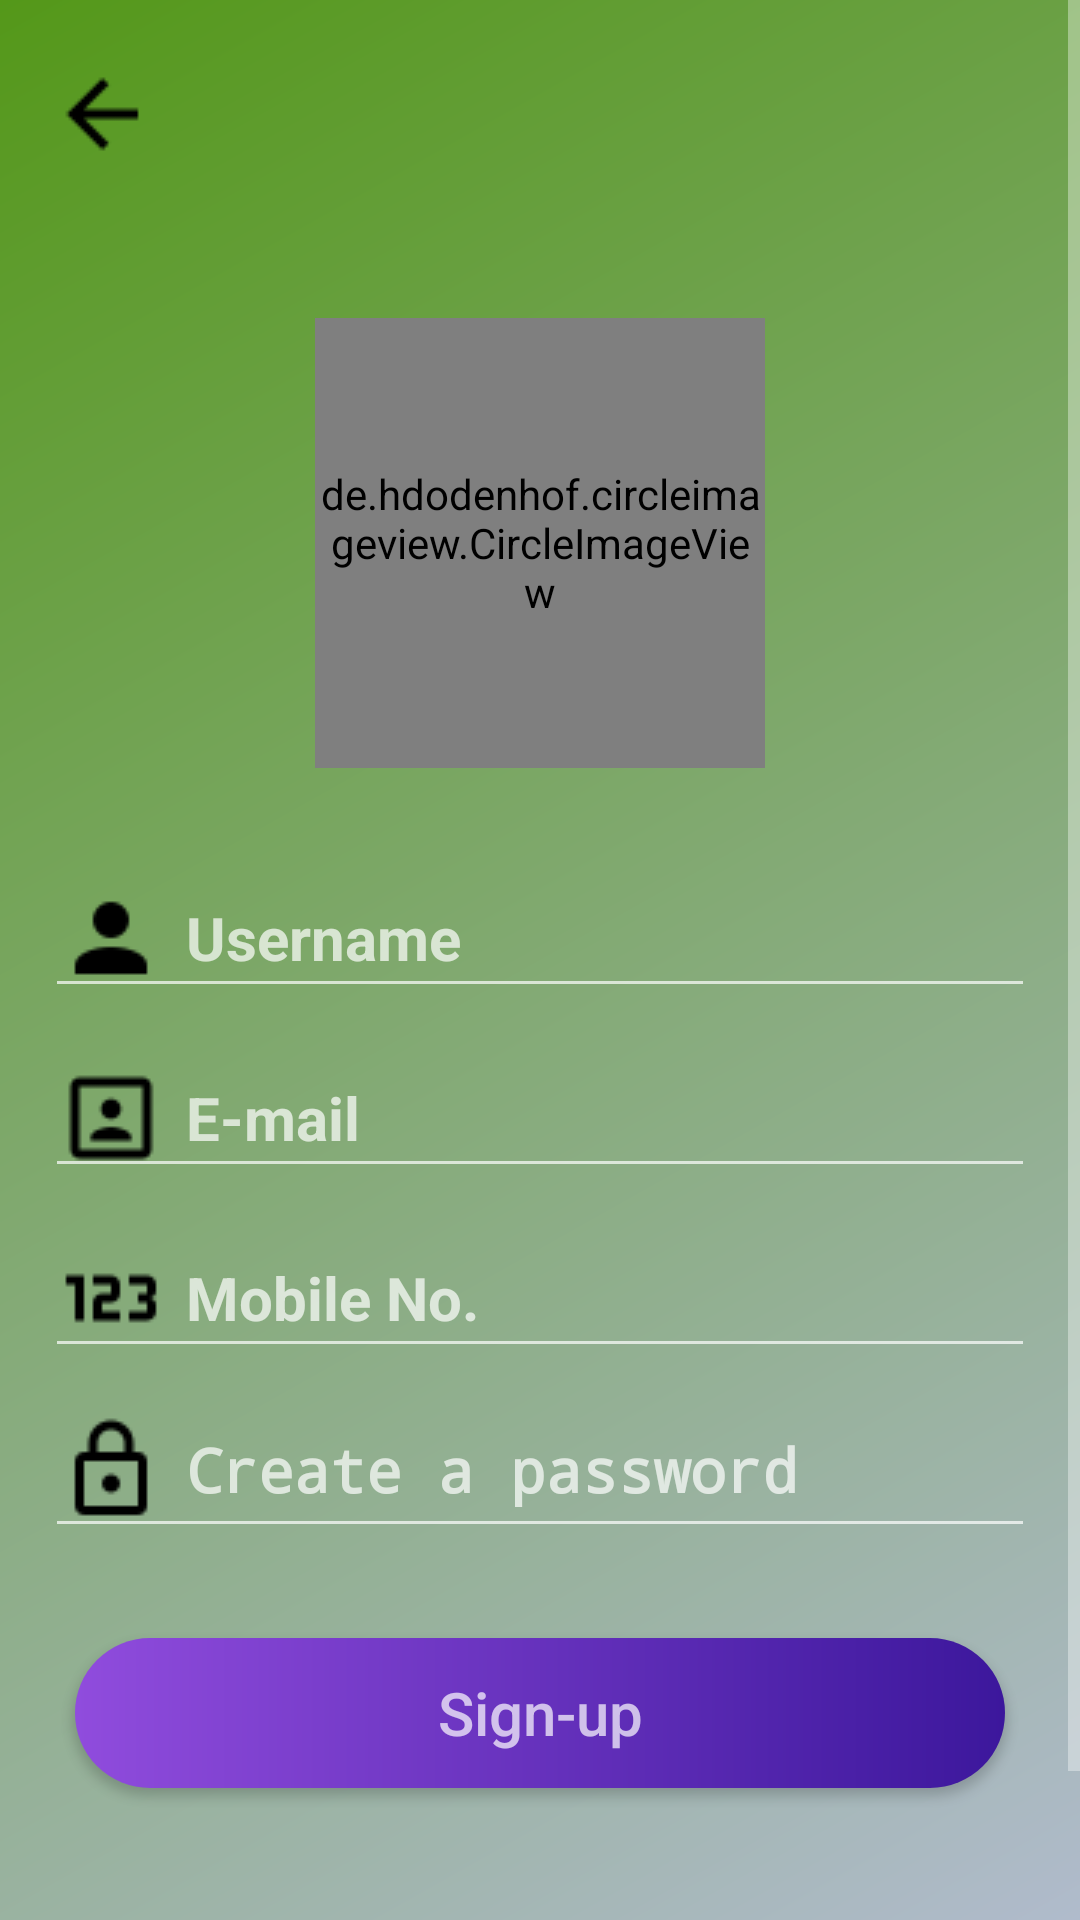

Point at icon controls on the screen. Image size 1080 x 1920, points as [x,y].
arrow left: [102,114]
